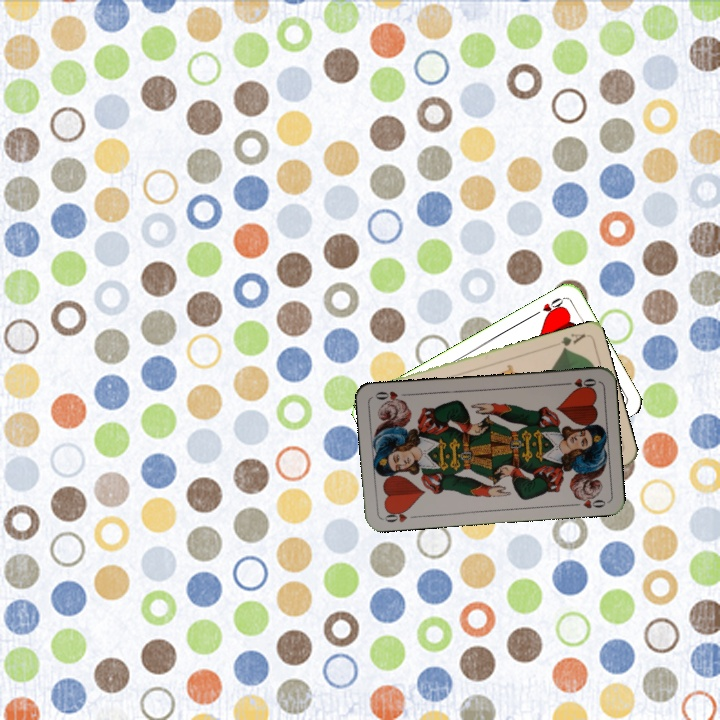GA: (556, 329, 588, 353)
HO: (529, 293, 567, 320), (559, 374, 599, 392), (380, 505, 412, 525)
